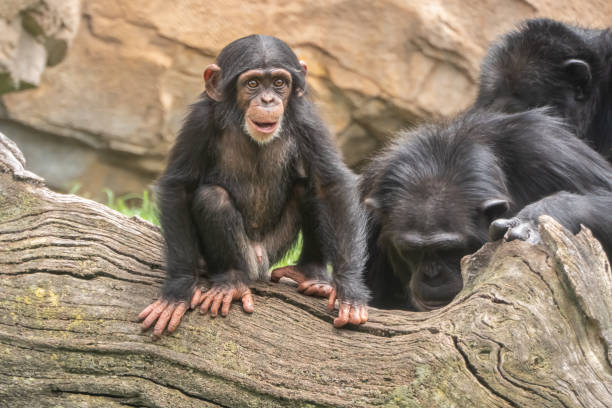chimpanzee: (194, 26, 327, 155)
